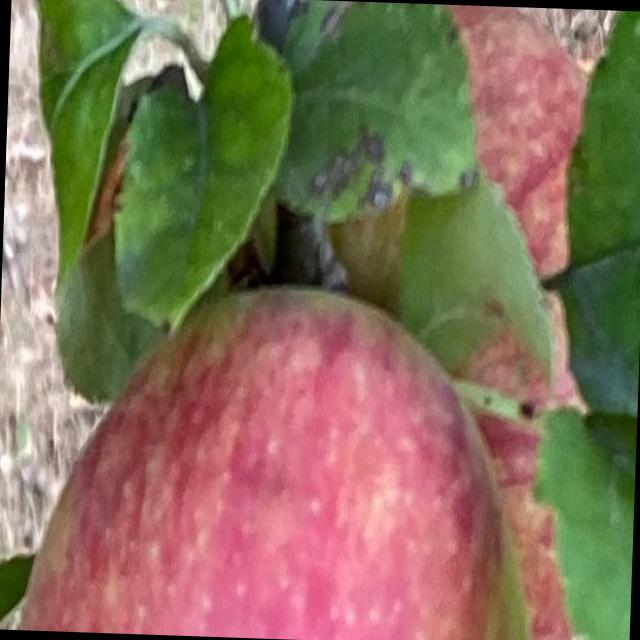Apples: (19, 276, 542, 639), (311, 0, 595, 639)
